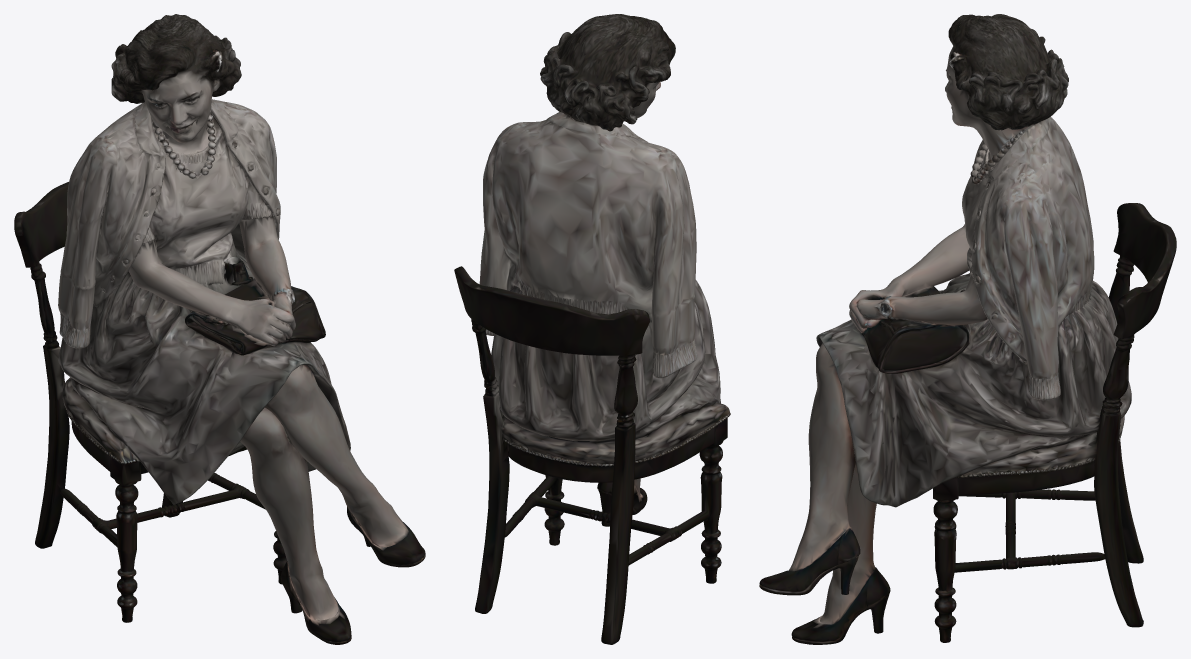
The picture shows the model from 3 angles, left to right: view 1: azimuth 30°, elevation 25°; view 2: azimuth 150°, elevation 25°; view 3: azimuth 270°, elevation 25°; orthographic projection. The views are drawn at different scales.
Bounding box in the file's own units: 0.4346 × 0.9781 × 0.6299.
